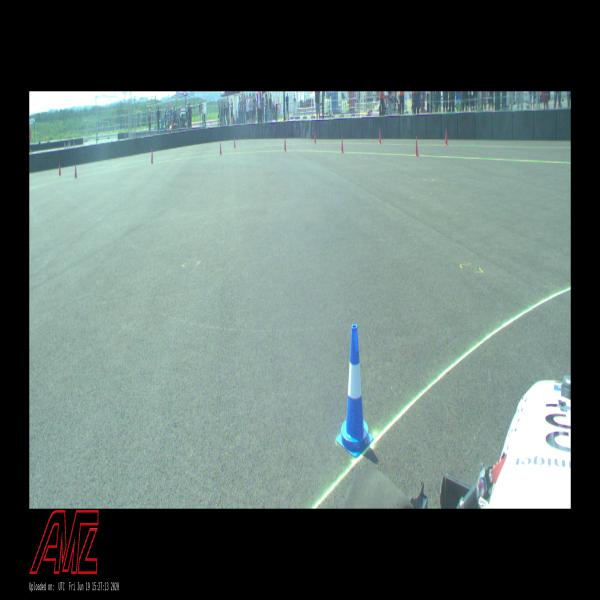blue_cone: (336, 325, 374, 457)
